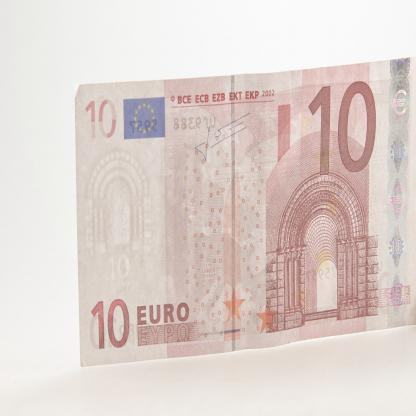euro_banknote: (68, 73, 405, 355)
